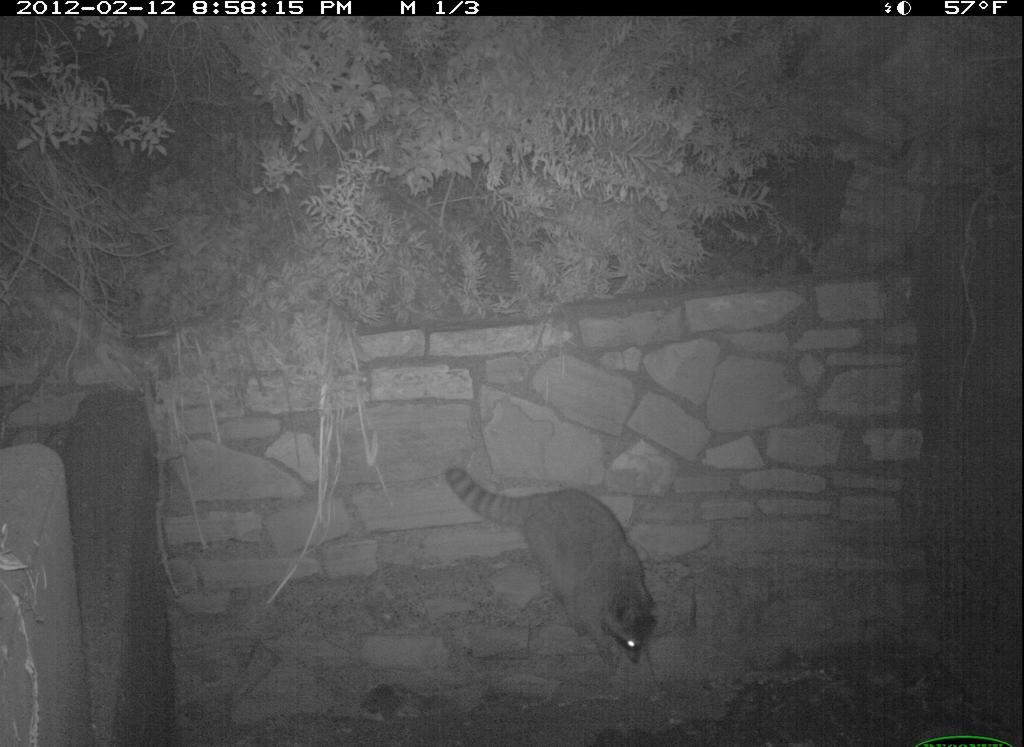raccoon: (440, 455, 667, 669)
